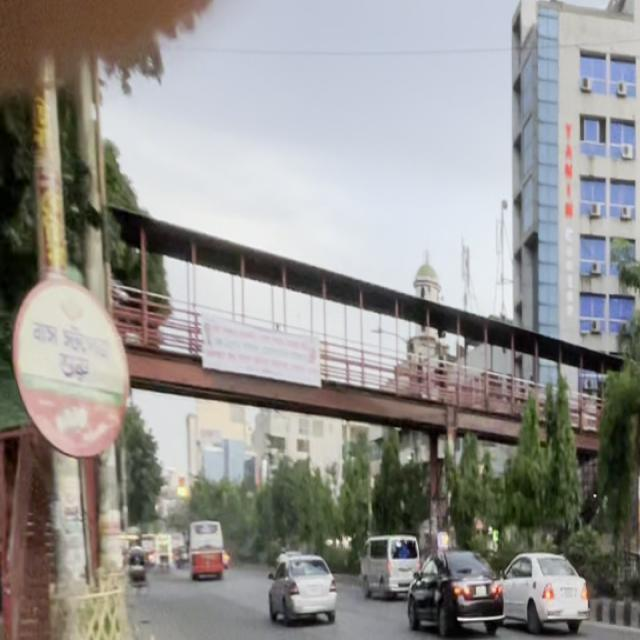car: (395, 530, 517, 640), (491, 532, 596, 640), (257, 529, 348, 639), (355, 522, 440, 607)
